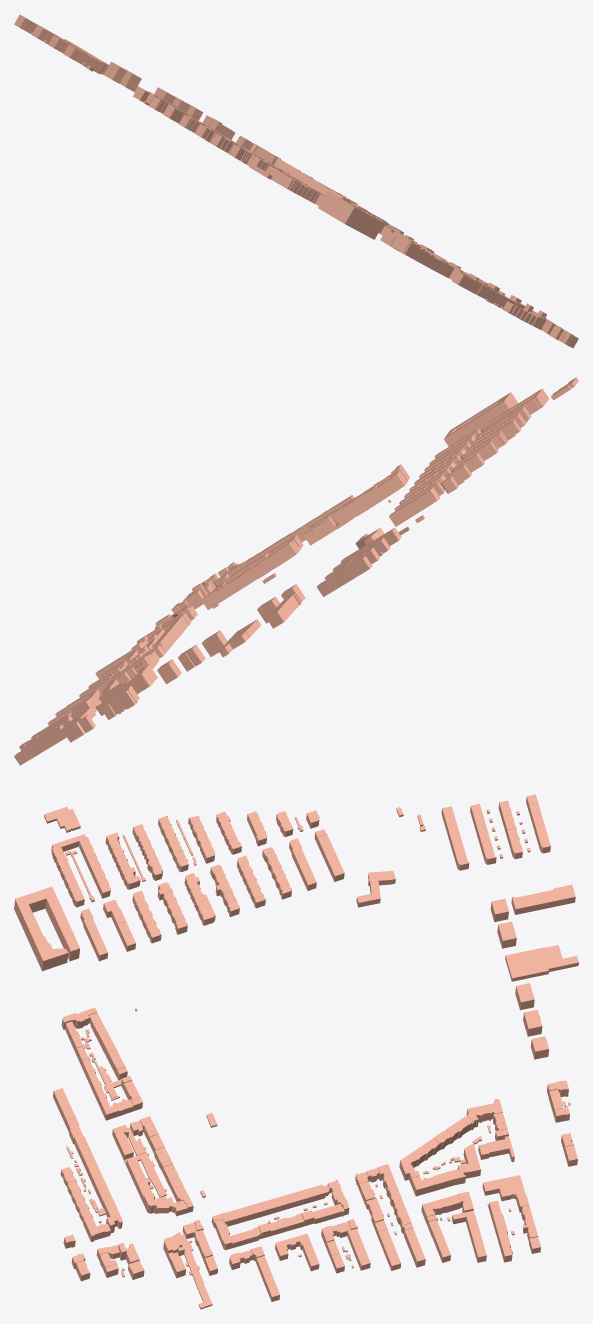
The picture shows the model from 3 angles, top to bottom: view 1: azimuth 30°, elevation 25°; view 2: azimuth 150°, elevation 25°; view 3: azimuth 270°, elevation 25°; orthographic projection. The views are drawn at different scales.
Size of the model in its own units: 556 by 412 by 662.
